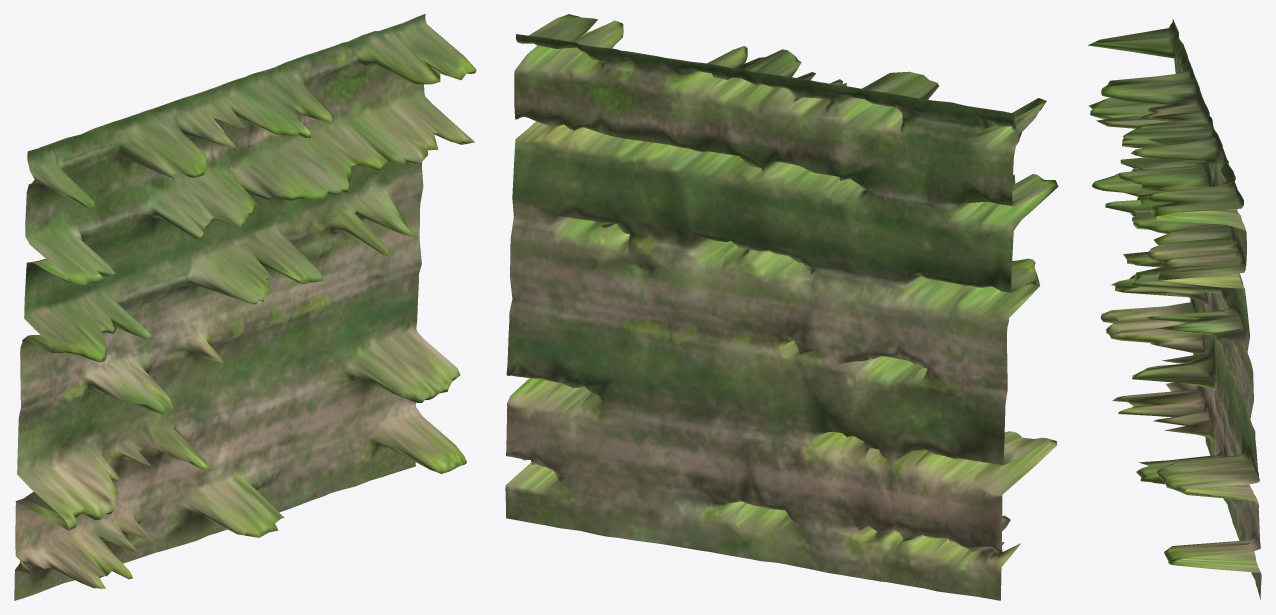
File: map_140_20.obj
The picture shows the model from 3 angles, left to right: view 1: azimuth 30°, elevation 25°; view 2: azimuth 150°, elevation 25°; view 3: azimuth 270°, elevation 25°; orthographic projection. The views are drawn at different scales.
Parts seen in each view (by area): view 1: map_140_20.obj; view 2: map_140_20.obj; view 3: map_140_20.obj.
Boxes of the visible parts, bbox=[...] form: map_140_20.obj: bbox=[14, 14, 476, 600]; map_140_20.obj: bbox=[505, 14, 1058, 600]; map_140_20.obj: bbox=[1087, 19, 1261, 599].
Size of the model in its own units: 10 by 10 by 3.95.
Materials: 1 (1 with a texture image).
